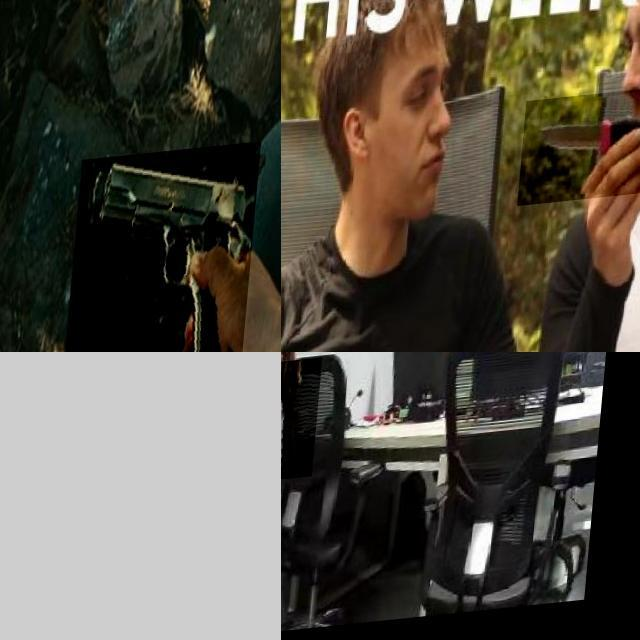-: (522, 93, 640, 212), (281, 365, 329, 487)
gun-knife-thesis - v11 Yolov5 augmented: (0, 352, 281, 640), (69, 151, 267, 352)
